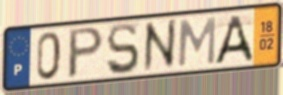0: (35, 30, 63, 81)
A: (212, 13, 255, 67)
M: (176, 15, 218, 69)
N: (142, 17, 178, 75)
P: (66, 25, 106, 81)
S: (105, 21, 141, 77)
